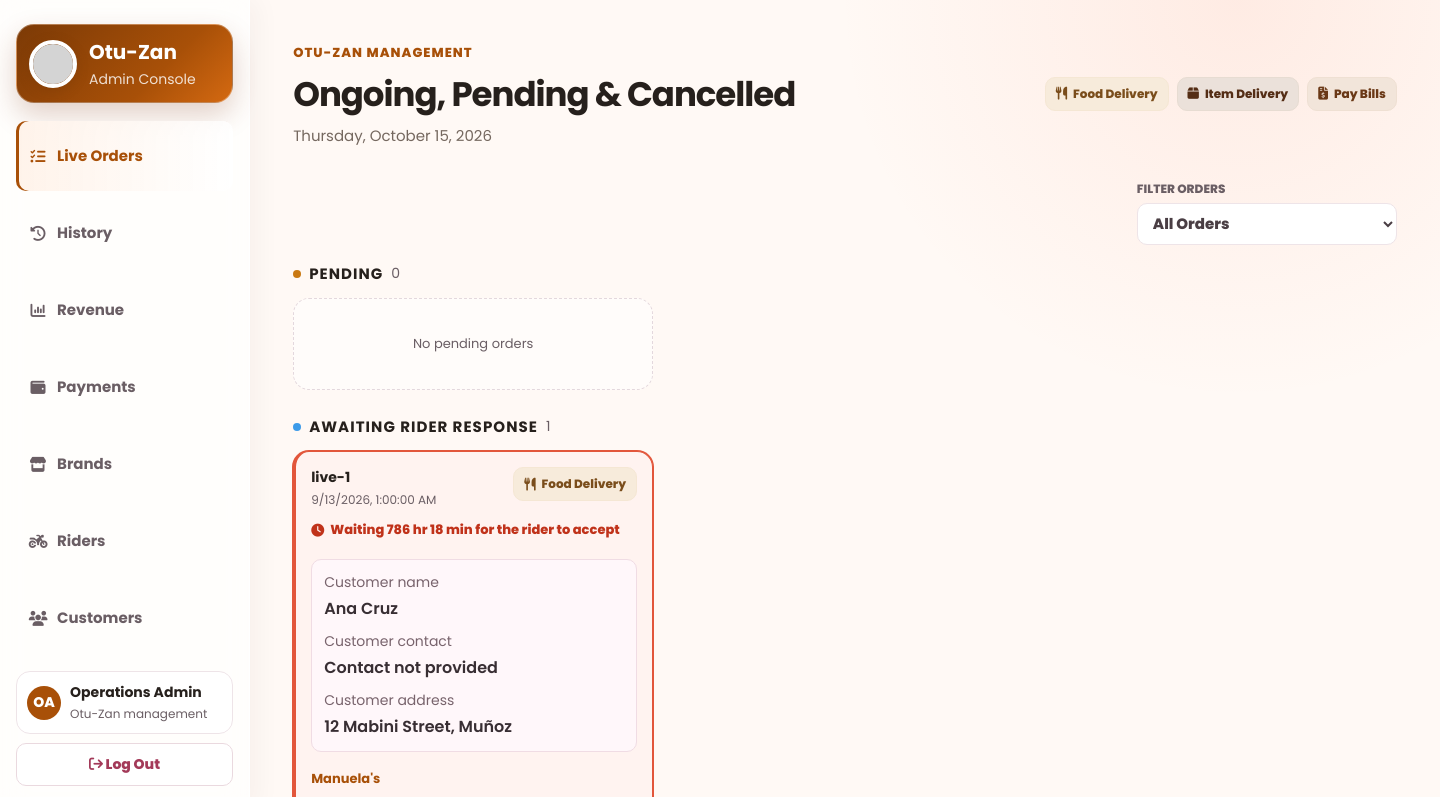
Test case: admin History tab filters by an exact date, server-side, without hiding anything by default
This screenshot has width=1440, height=797.
Click the button "History".
click(124, 233)  # box [16,198,233,268]
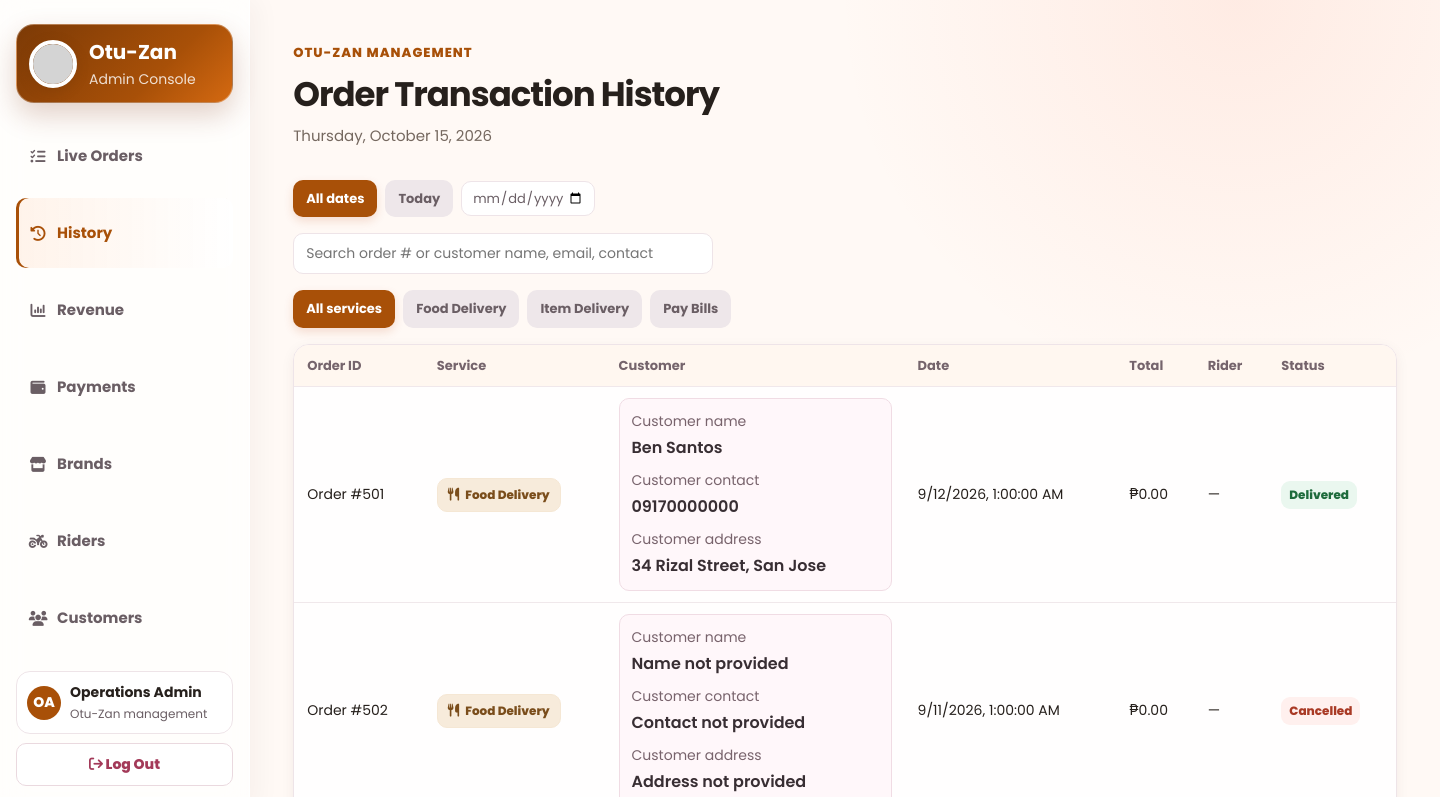
Expected: the text "Order #501" is shown, [294,386,424,602]
Click the button "Today".
click(419, 198)  # box [385,180,453,217]
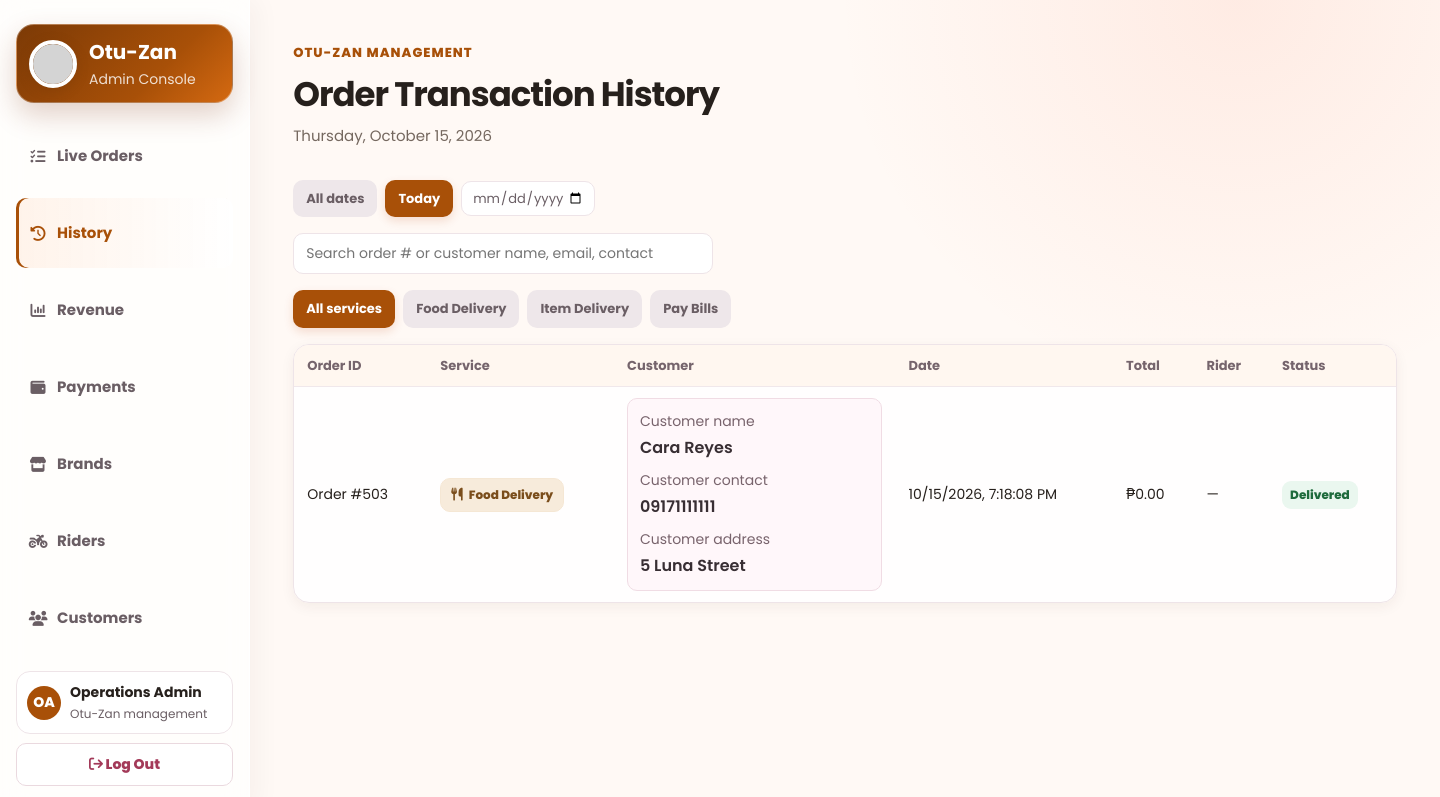
Expected: the text "Order #503" is shown, [294,386,427,602]
Expected: the text "Order #501" is gone
Type "2026-09-12" into the date field named "Pick an exact date".
click(528, 198); type("2026-09-12")  # box [461,180,595,216]
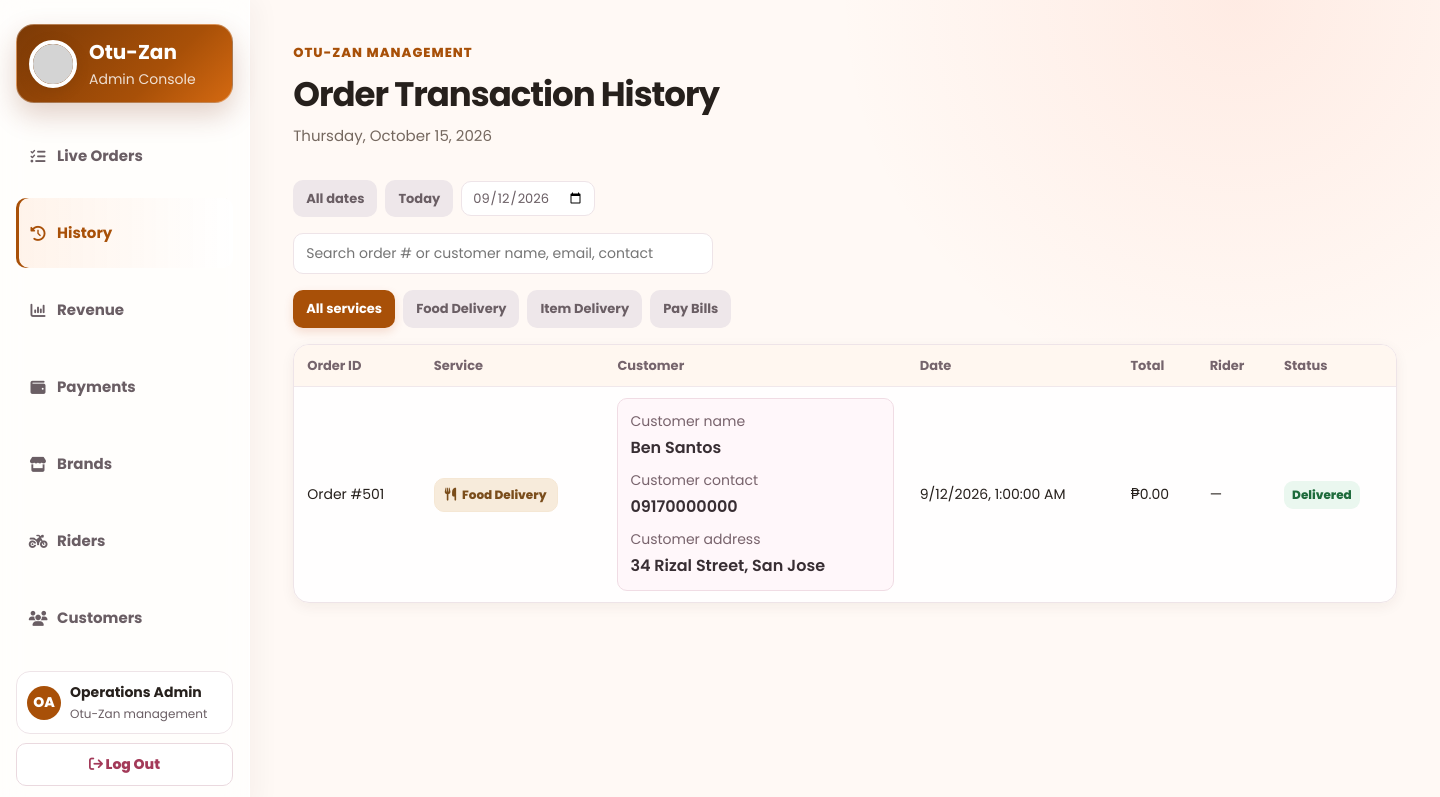
Expected: the text "Order #502" is not shown
Expected: the text "Order #503" is gone
Expected: the text "Order #501" is shown, [294,386,421,602]
Click the button "All dates".
click(335, 198)  # box [293,180,377,217]
(page scrolled)
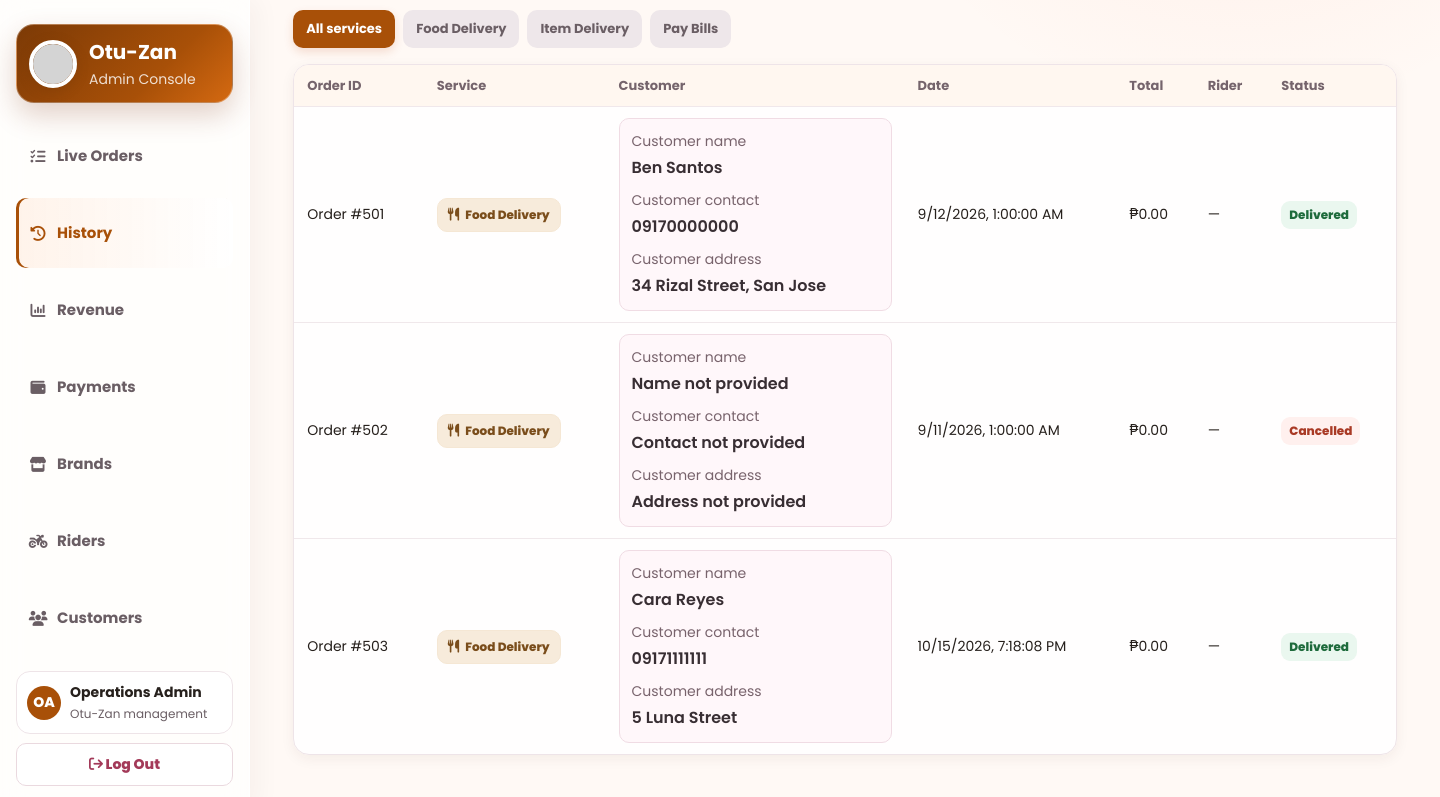
Expected: the text "Order #501" is shown, [294,106,424,322]
Expected: the text "Order #502" is shown, [294,322,424,538]
Expected: the text "Order #503" is shown, [294,538,424,754]
